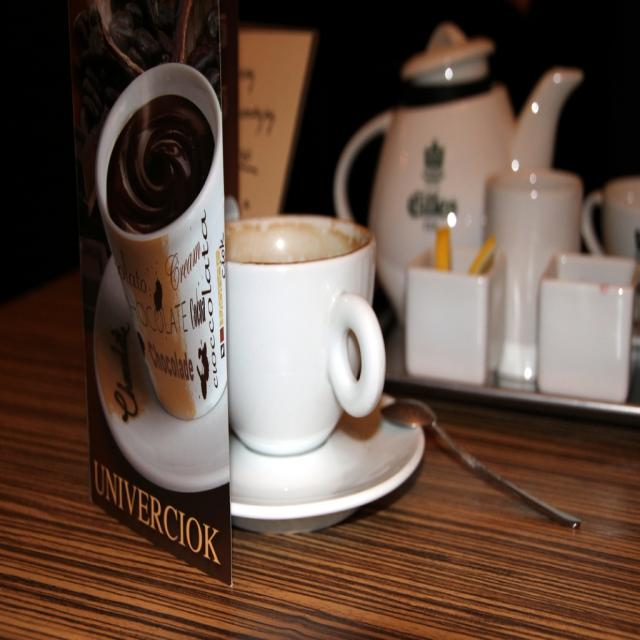Coffee: (218, 221, 391, 477), (101, 86, 217, 236)
Tea: (108, 94, 214, 237)
